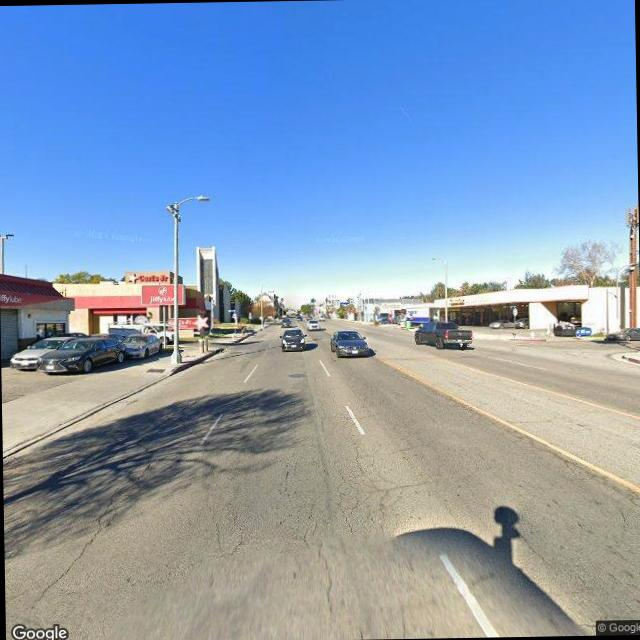crack: (26, 450, 151, 602), (280, 398, 408, 538)
